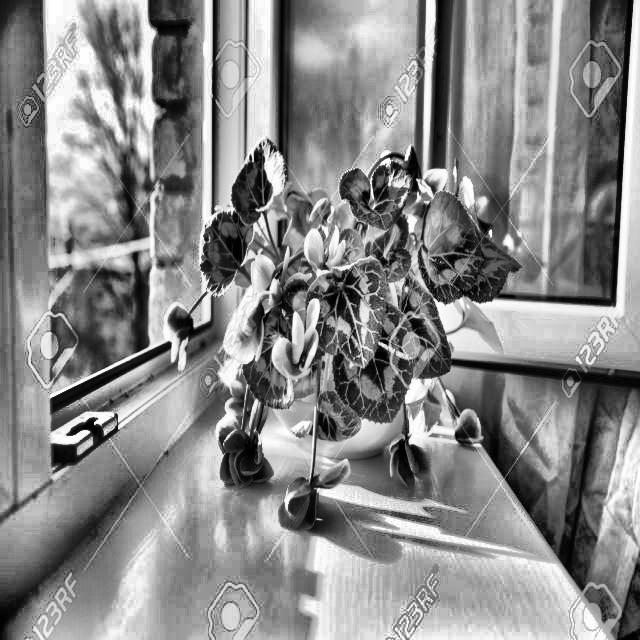plants: (193, 138, 504, 550)
